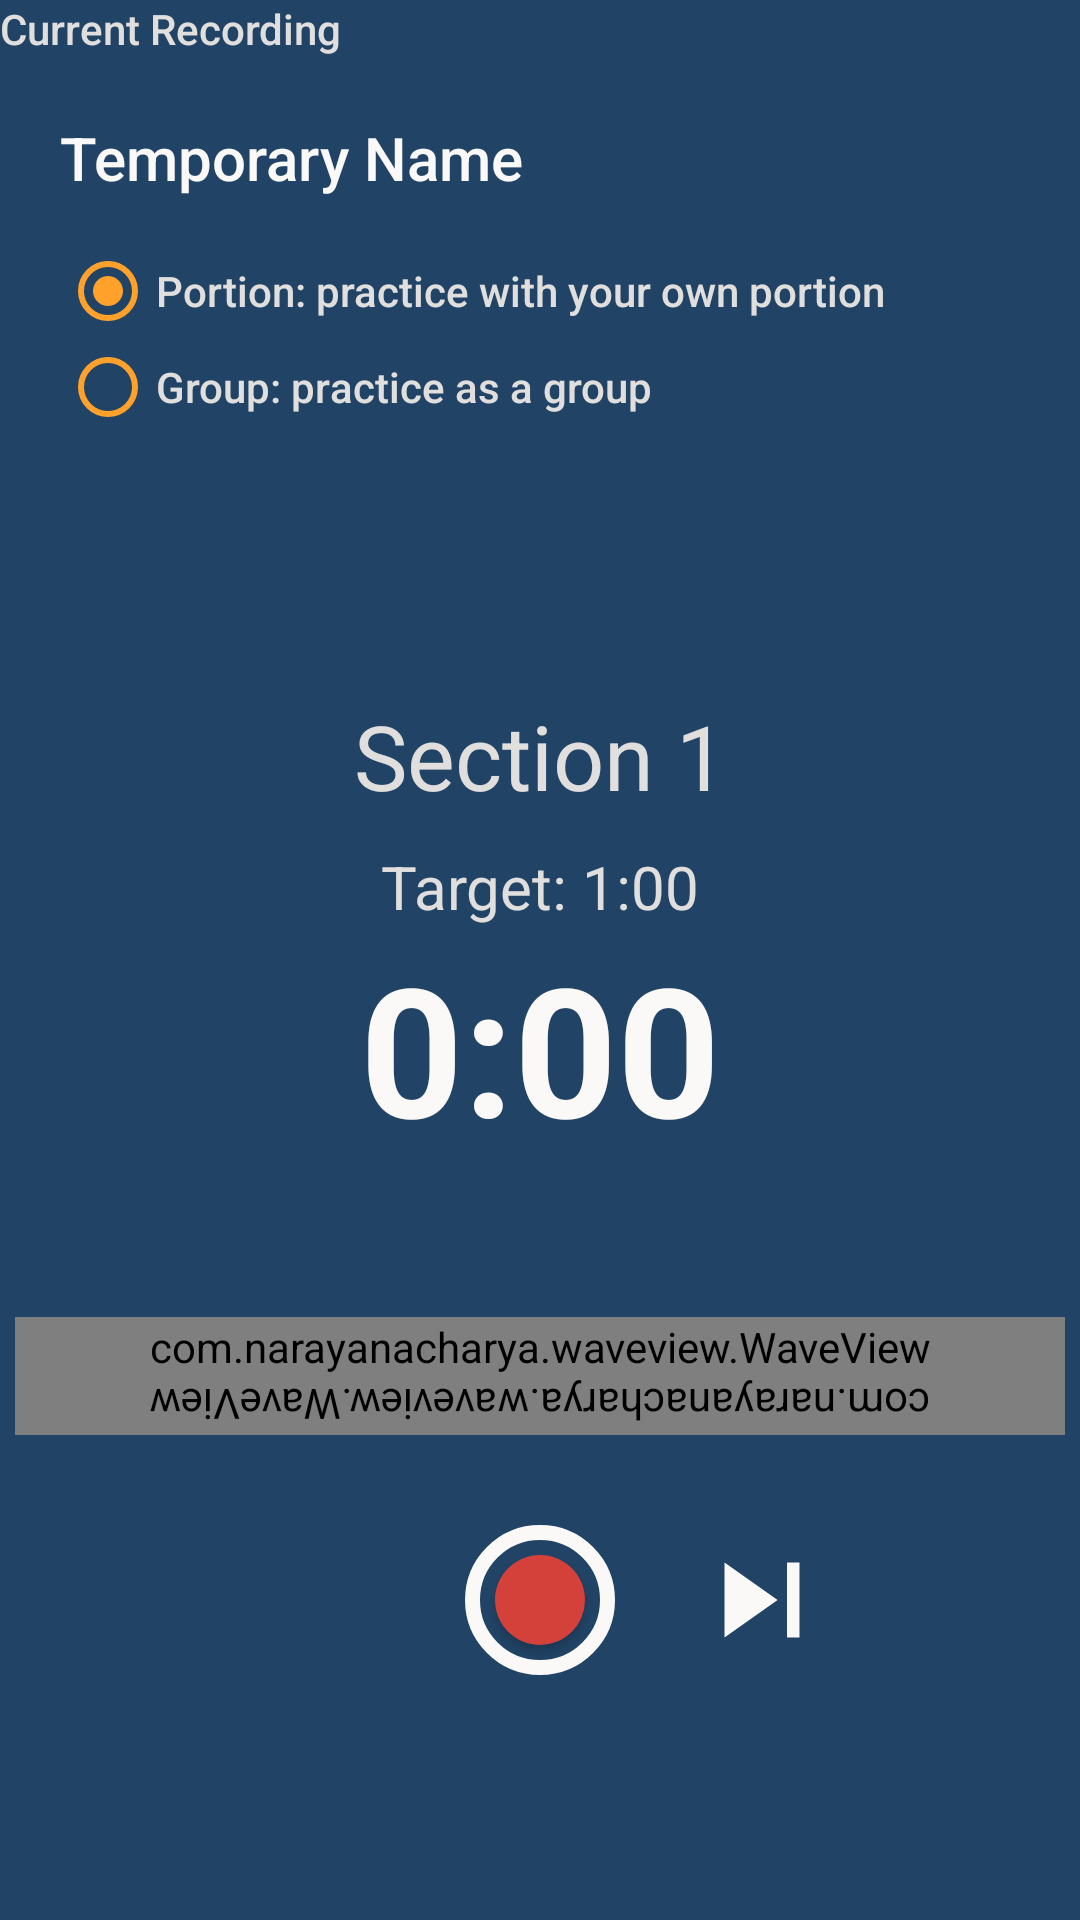

Named icons in this screenshot (1080 × 1920) and their centers, point (x, y):
skip next: point (762, 1600)
